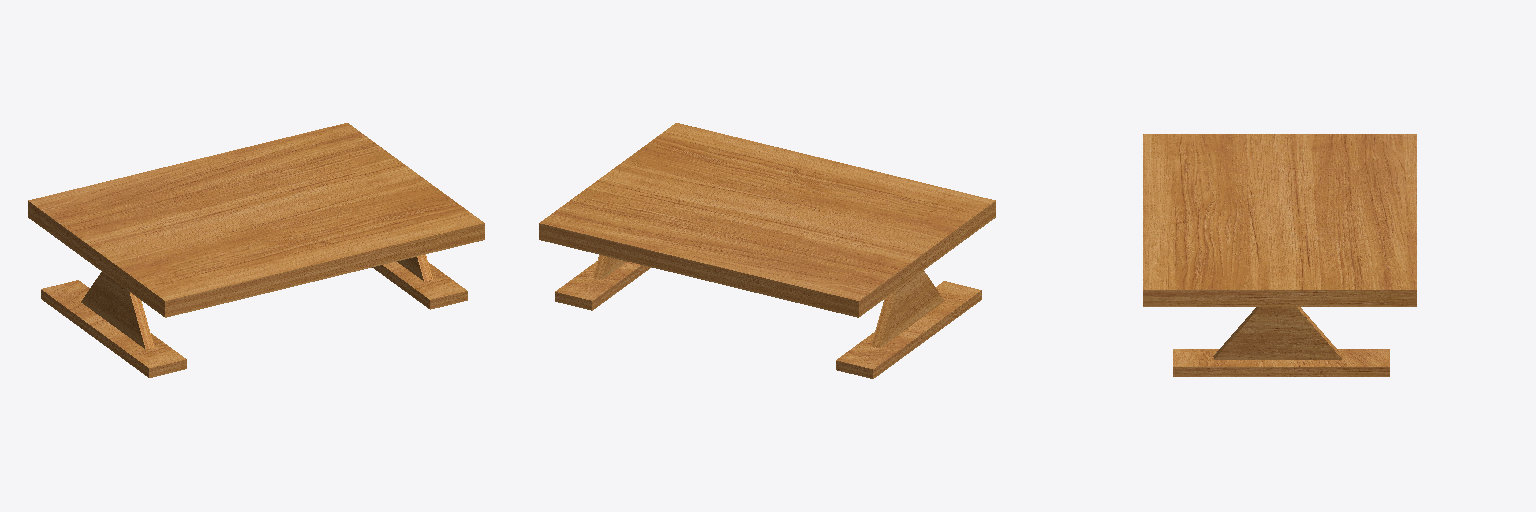
The picture shows the model from 3 angles: view 1: azimuth 30°, elevation 25°; view 2: azimuth 150°, elevation 25°; view 3: azimuth 270°, elevation 25°; orthographic projection.
Visible parts, largest first — view 1: Box003, Box001, Prism002, Box002; view 2: Box003, Box001, Prism002, Box002; view 3: Box003, Prism001, Box002.
Boxes of the visible parts, x1=… form: Box003: x1=28, y1=123, x2=484, y2=317; Box001: x1=41, y1=280, x2=186, y2=377; Prism002: x1=81, y1=272, x2=153, y2=348; Box002: x1=372, y1=262, x2=467, y2=309; Box003: x1=539, y1=123, x2=995, y2=317; Box001: x1=836, y1=281, x2=981, y2=378; Prism002: x1=871, y1=270, x2=944, y2=347; Box002: x1=555, y1=261, x2=651, y2=310; Box003: x1=1143, y1=134, x2=1416, y2=306; Prism001: x1=1213, y1=307, x2=1342, y2=359; Box002: x1=1173, y1=349, x2=1389, y2=376.
Bounding box in the file's own units: 85.28 × 22.39 × 63.33.
Materials: 2 (1 with a texture image).